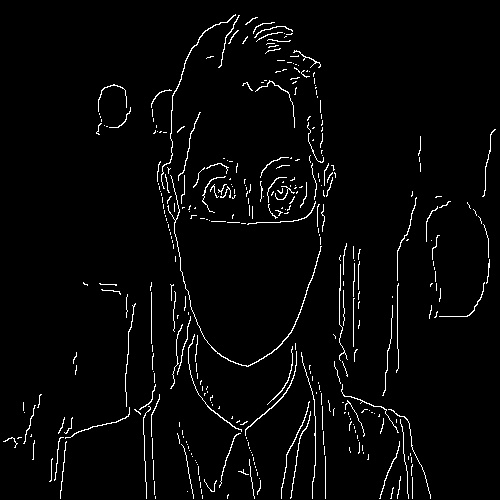mask: (173, 212, 325, 366)
